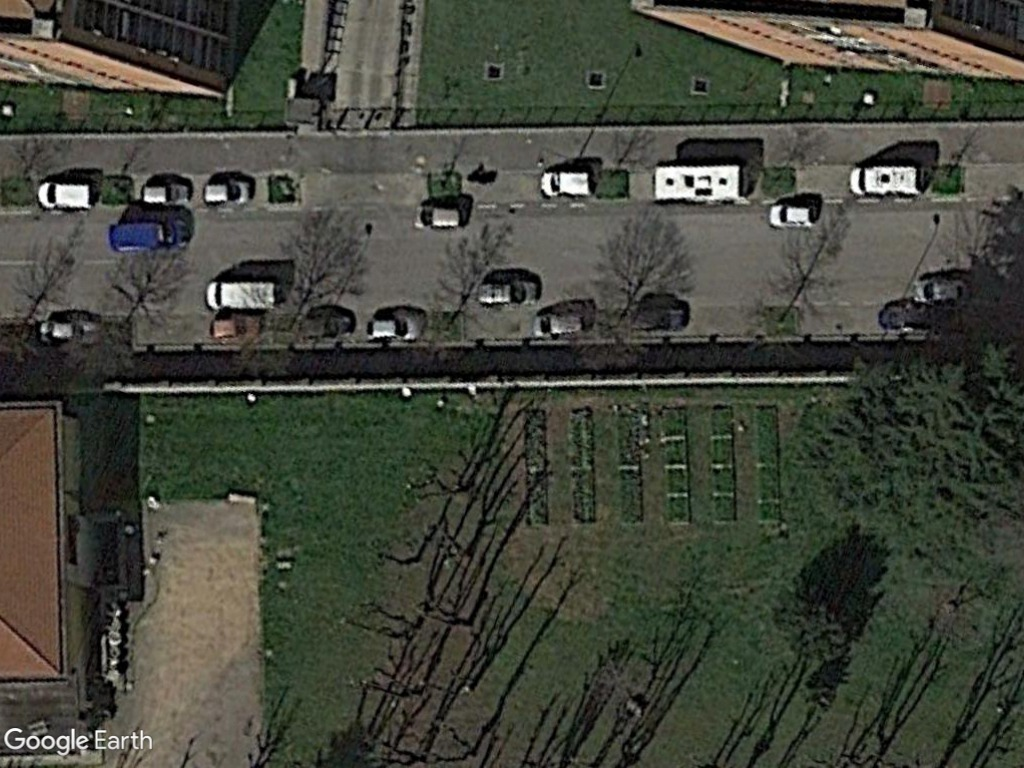bus: (650, 162, 747, 205)
car: (472, 276, 544, 308), (363, 312, 424, 344), (198, 176, 256, 207), (530, 310, 588, 340), (763, 202, 820, 232), (138, 181, 197, 209), (409, 203, 467, 231)
van: (847, 163, 923, 201), (202, 277, 279, 311), (32, 179, 98, 211), (538, 167, 598, 200)
